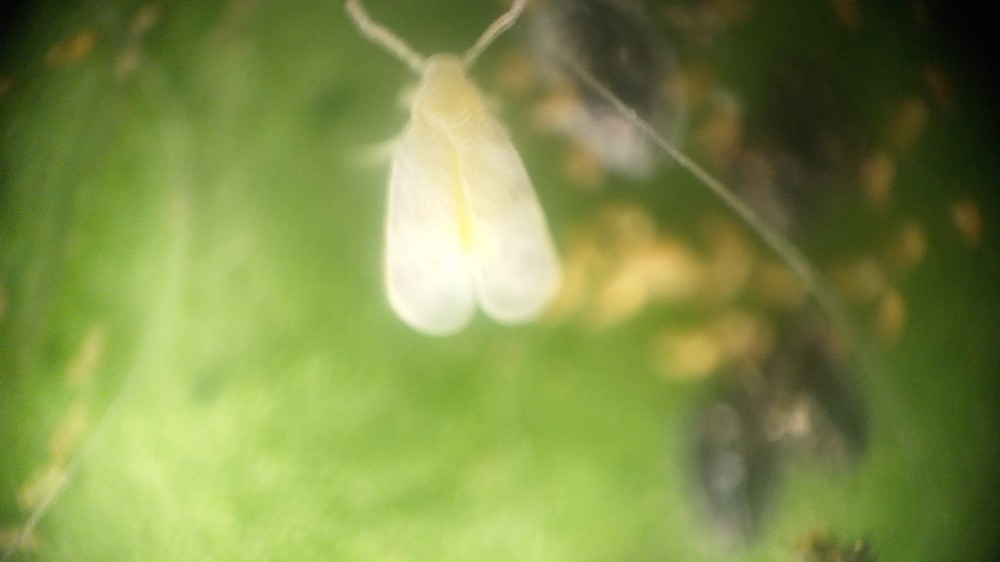Mosca Blanca: (318, 6, 619, 337)
